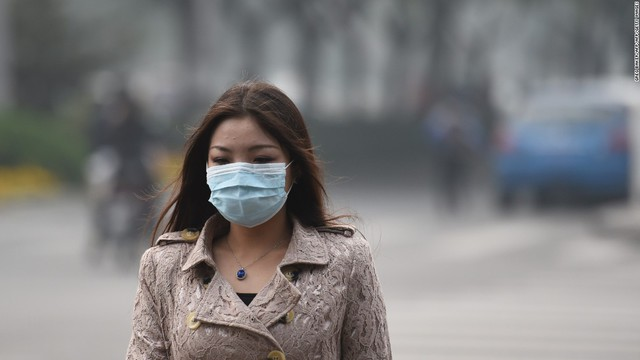mask: (203, 163, 283, 228)
